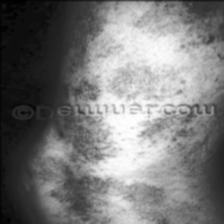Non-Cancerous Skin Condition: (62, 176, 174, 224), (134, 0, 224, 51), (110, 59, 187, 102), (47, 118, 121, 158), (65, 0, 119, 46), (139, 116, 198, 153), (60, 78, 100, 102)
